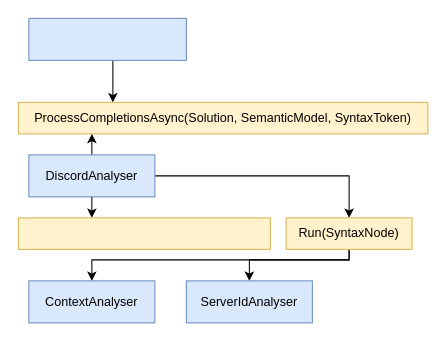
The diagram is 446 pixels wide and 341 high, and some of its shapes have lost their labels. Here are the shapes that lost their labels. From the top down, the centre of each, then its label:
At (x=107, y=38): "IDiscordCompletionEngine".
At (x=143, y=233): "Initialize(Solution, Project, SemanticModel)".
